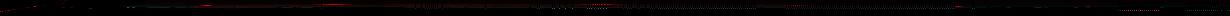Blue cone: (26, 7, 31, 8), (11, 9, 16, 10), (33, 6, 37, 7)
Yellow cone: (1085, 6, 1091, 8)
